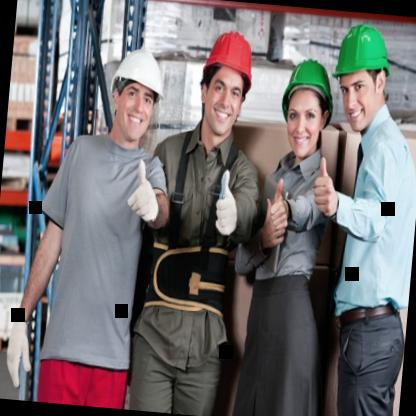helmet: (185, 21, 264, 146), (271, 37, 344, 172), (326, 12, 400, 134), (103, 36, 176, 150)
